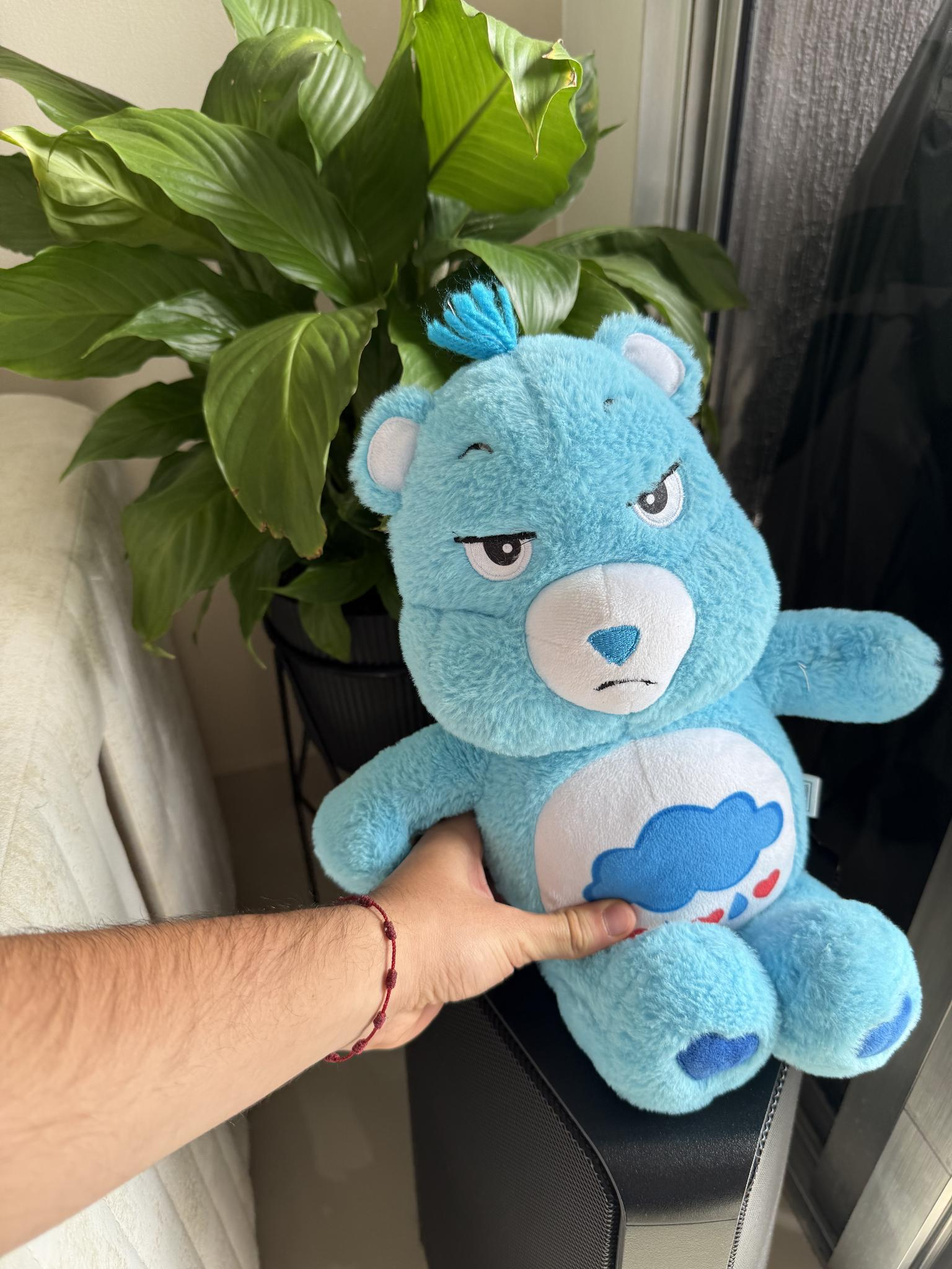peluche_Juan Jose: (389, 364, 938, 1075)
